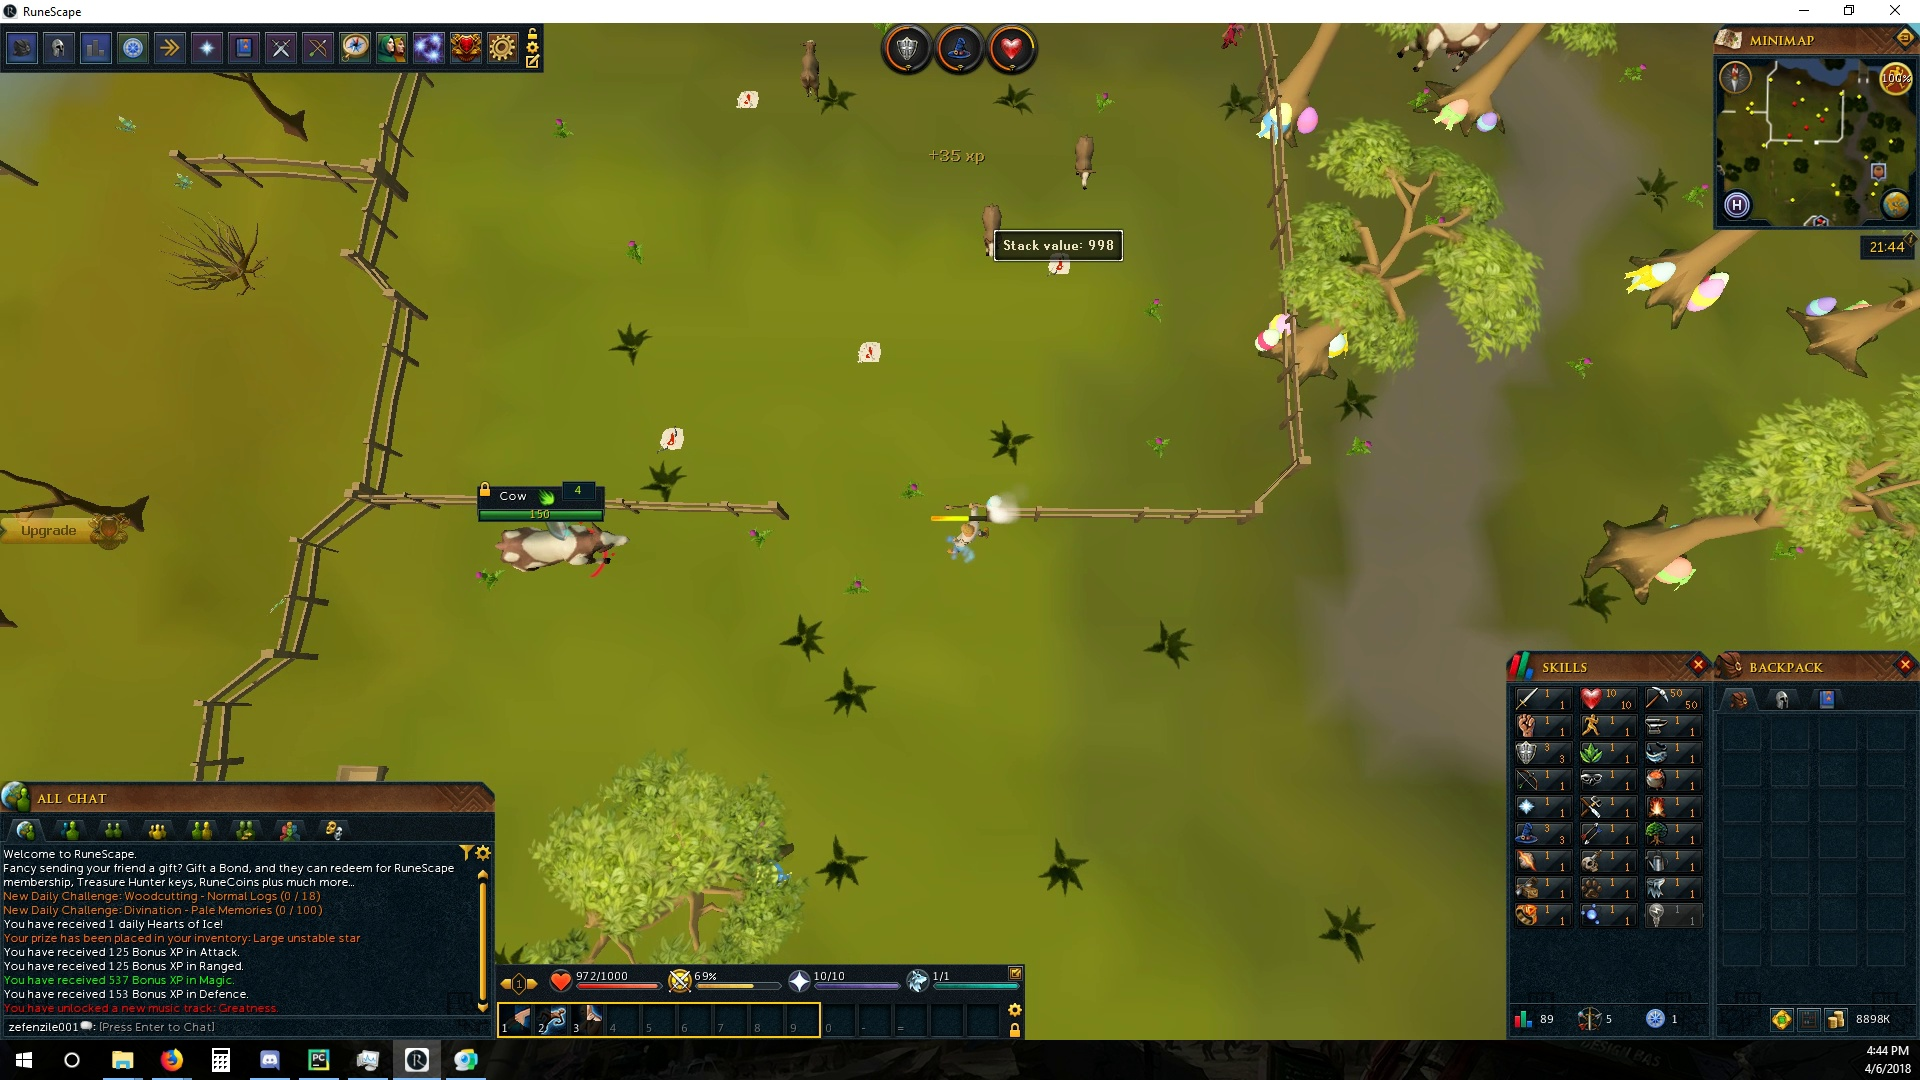calf: (798, 33, 824, 98), (1071, 131, 1097, 190), (980, 202, 1004, 258)
cow: (491, 522, 634, 579), (1385, 22, 1507, 78)
cow_drop: (855, 339, 884, 368), (659, 423, 686, 454), (738, 88, 764, 113), (1047, 258, 1071, 280)
